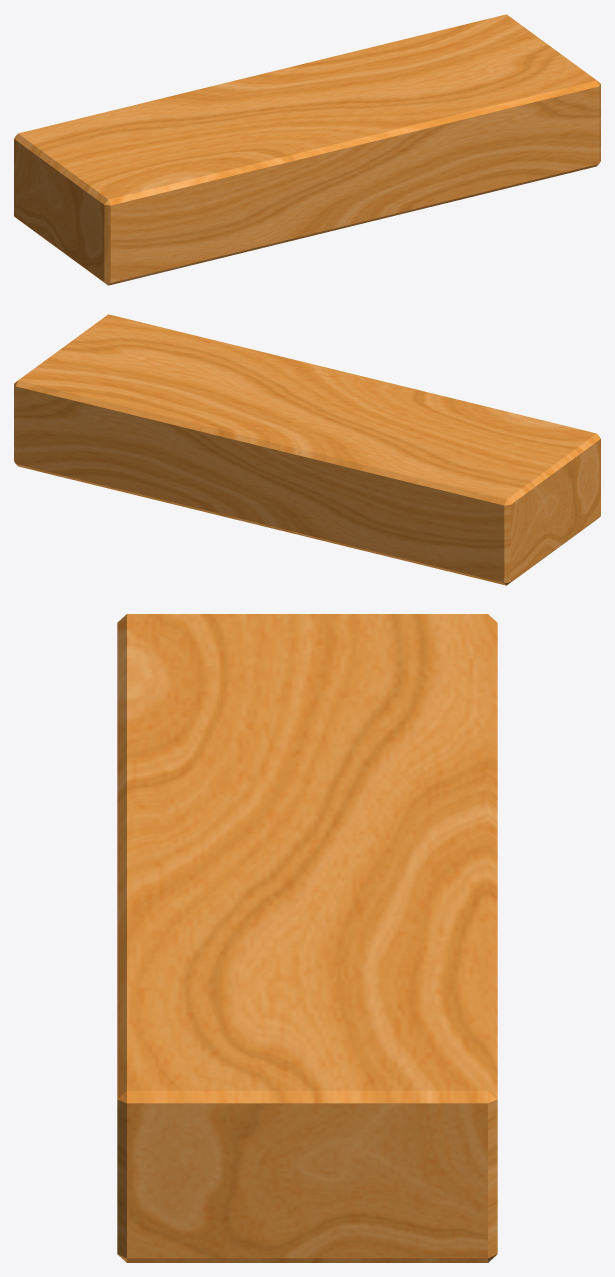
File: WoodenBlock1.fbx
The picture shows the model from 3 angles, top to bottom: view 1: azimuth 30°, elevation 25°; view 2: azimuth 150°, elevation 25°; view 3: azimuth 270°, elevation 25°; orthographic projection. The views are drawn at different scales.
Visible parts, largest first — view 1: WoodenBlock1; view 2: WoodenBlock1; view 3: WoodenBlock1.
Boxes of the visible parts, x1,y1,x2,y2 form: WoodenBlock1: (14, 14, 600, 285); WoodenBlock1: (14, 314, 600, 585); WoodenBlock1: (117, 614, 497, 1262).
Size of the model in its own units: 6.04 by 1 by 2.
